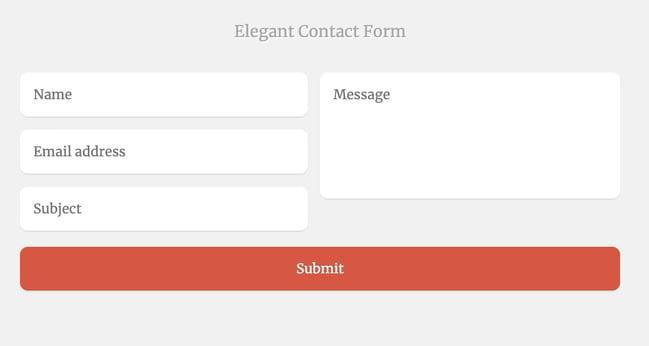button: (20, 247, 622, 293)
input: (19, 186, 312, 233), (20, 129, 310, 175), (21, 72, 310, 118)
